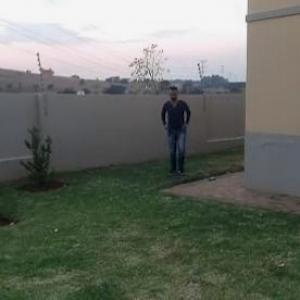follow: (161, 84, 194, 182)
